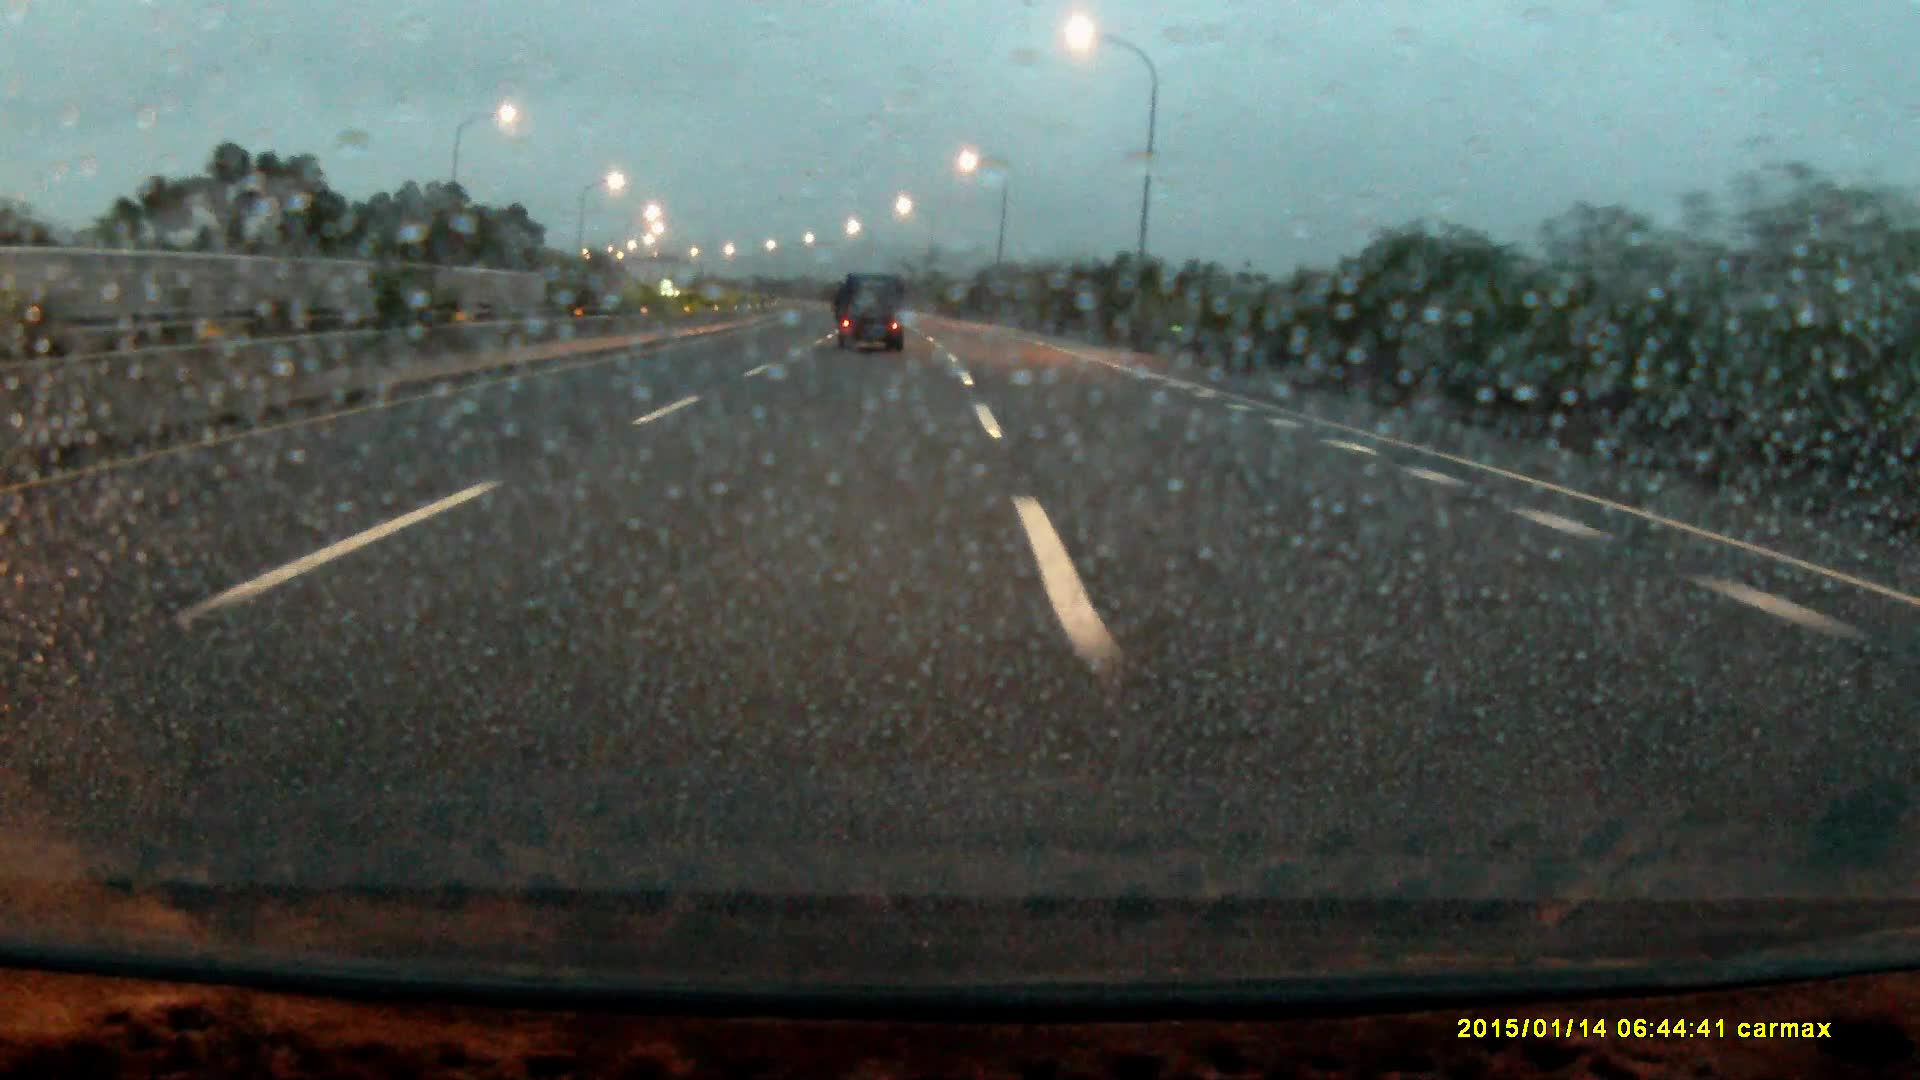vehicle: (836, 269, 909, 359)
